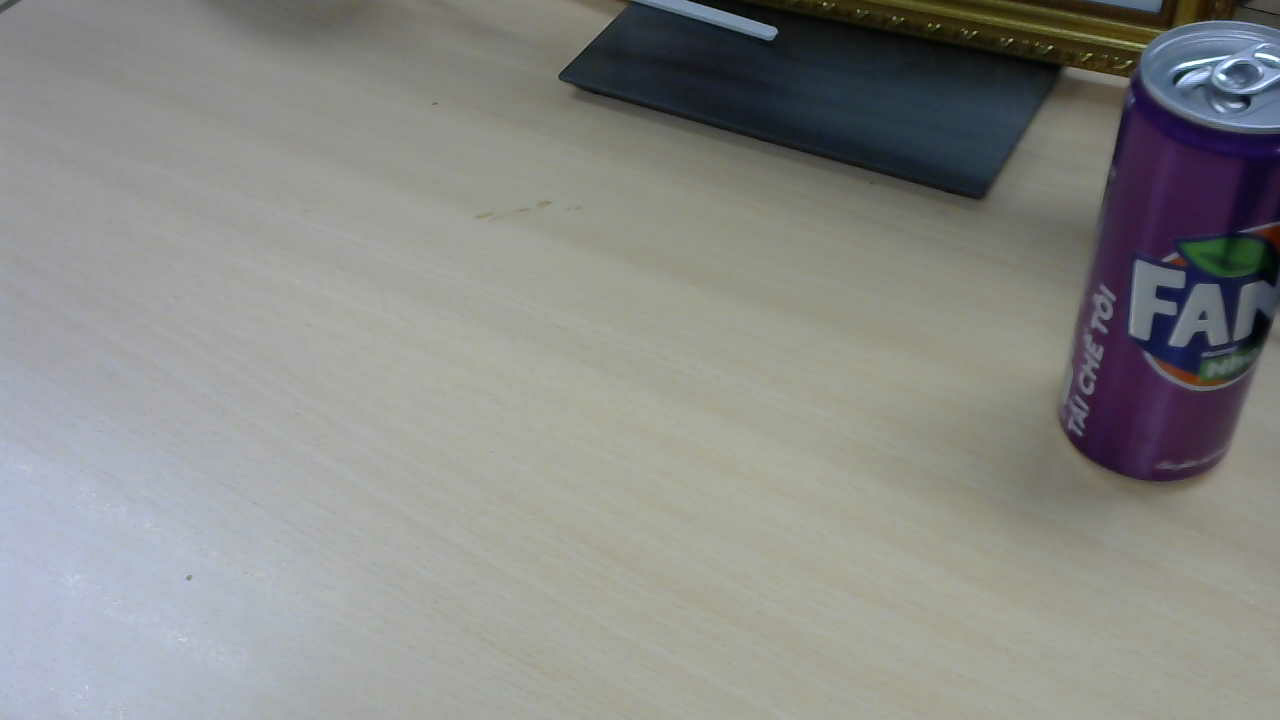Fanta: (1058, 26, 1280, 488)
